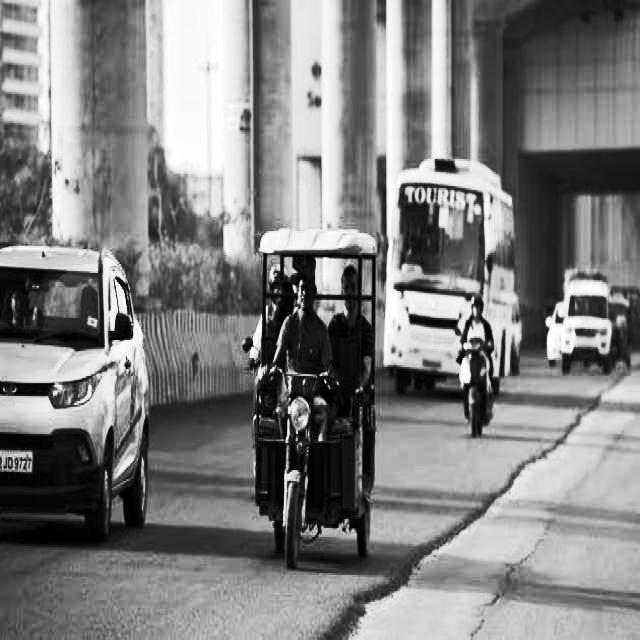Toto: (252, 230, 376, 558)
